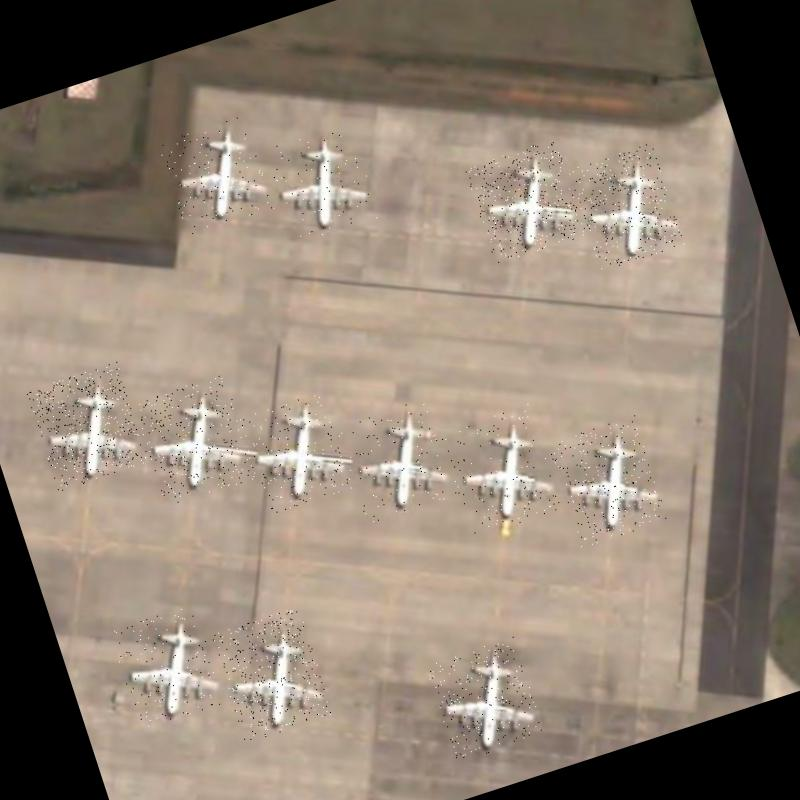A9: (210, 606, 334, 744), (133, 373, 258, 507), (439, 404, 563, 538), (26, 362, 150, 492), (548, 415, 669, 548), (464, 138, 588, 265), (426, 636, 546, 764), (336, 398, 457, 524), (568, 142, 685, 272), (109, 603, 227, 730), (262, 121, 380, 246), (158, 116, 274, 237), (239, 391, 352, 515)
